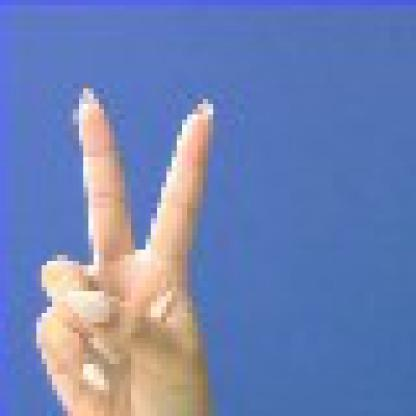two: (26, 73, 229, 411)
